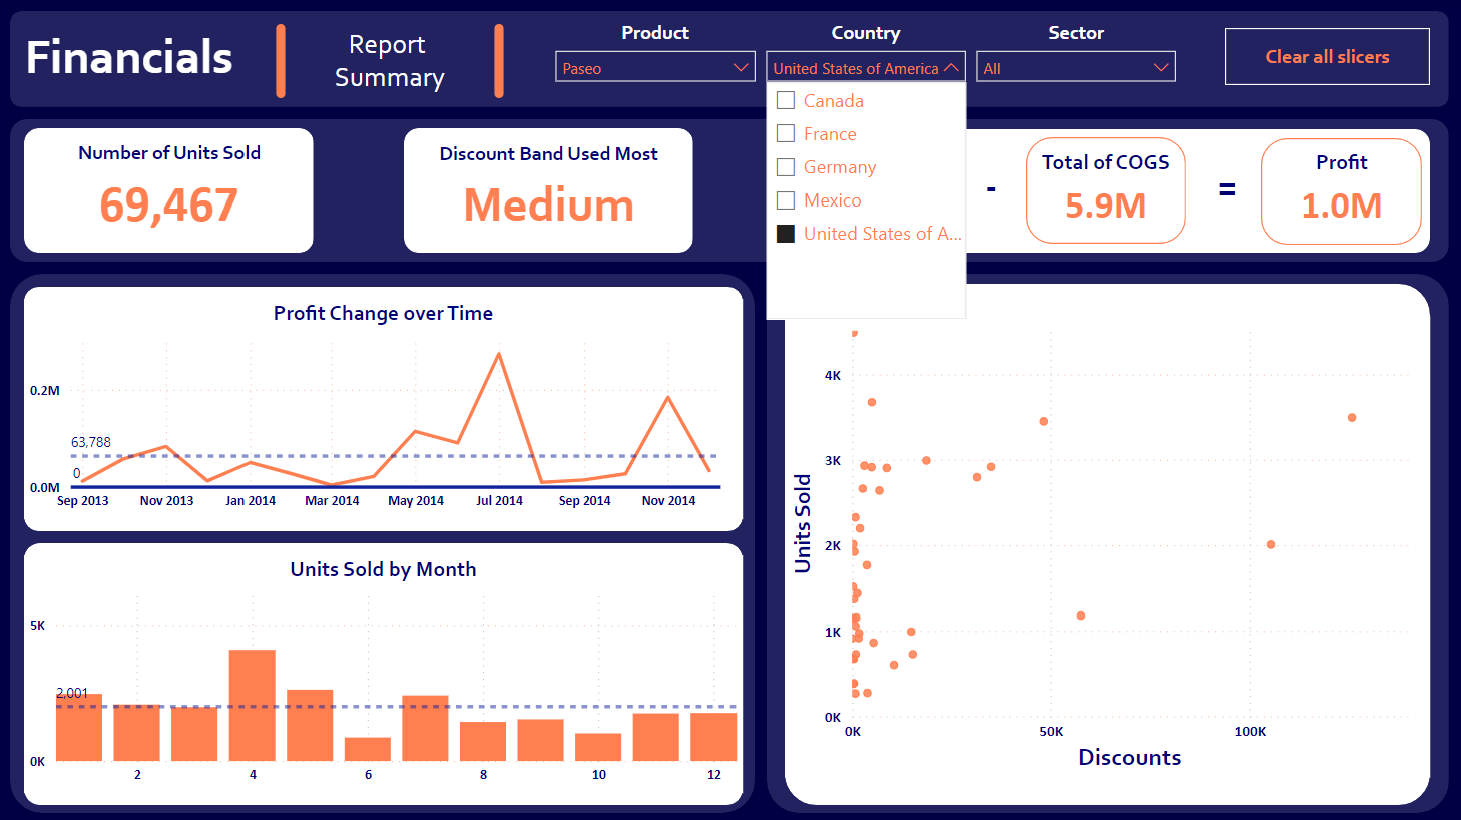

The page's visual inventory and layout, read from the dashboard file:
{"tool":"powerbi","page":{"name":"Report Summary","canvas":[1280,720],"ordinal":0},"visuals":[{"type":"shape","box":[10.5,240.3,651.6,471.8],"z":1000},{"type":"shape","box":[672.6,240.3,597.2,471.8],"z":2000},{"type":"shape","box":[10.5,105.2,1259.3,124.5],"z":3000},{"type":"shape","box":[10.5,10.5,1259.3,84.2],"z":4000},{"type":"shape","box":[688.4,114,564.8,107.9],"z":5000},{"type":"shape","box":[355.2,113.1,253.4,108.7],"z":6000},{"type":"shape","box":[22.8,113.1,253.4,108.7],"z":7000},{"type":"shape","box":[688.4,249.1,564.8,456],"z":8000},{"type":"shape","box":[22.8,476.2,628.8,228.9],"z":9000},{"type":"shape","box":[22.8,251.7,628.8,214],"z":10000},{"type":"slicer","title":"Product","fields":{"Values":["financials.Product"]},"box":[478,18.4,194.7,70.2],"z":11000},{"type":"card","title":"Number of Units Sold","fields":{"Values":["Sum(financials.Units Sold)"]},"box":[35.1,123.7,229.8,86.8],"z":12000},{"type":"lineChart","title":"Profit Change over Time","fields":{"Y":["Sum(financials.Profit)"],"Category":["financials.Date.Variation.Date Hierarchy.Year","financials.Date.Variation.Date Hierarchy.Quarter","financials.Date.Variation.Date Hierarchy.Month","financials.Date.Variation.Date Hierarchy.Day"]},"box":[22.8,262.2,628.8,192.9],"z":13000},{"type":"clusteredColumnChart","title":"Units Sold by Month","fields":{"Category":["financials.Month Number"],"Y":["Avg(financials.Units Sold)"]},"box":[22.8,486.7,628.8,207.8],"z":14000},{"type":"card","title":"Total of Sales","fields":{"Values":["Sum(financials. Sales)"]},"box":[700.7,130.7,130.7,78.1],"z":15000},{"type":"card","title":"Total of COGS","fields":{"Values":["Sum(financials.COGS)"]},"box":[905,130.7,129.8,78.1],"z":16000},{"type":"card","title":"Profit","fields":{"Values":["Sum(financials.Profit)"]},"box":[1111.1,130.7,129.8,78.1],"z":17000},{"type":"card","title":"Discount Band Used Most","fields":{"Values":["financials.Top Discount Band for Card"]},"box":[366.6,124.5,230.6,87.7],"z":18000},{"type":"scatterChart","fields":{"X":["financials.Discounts"],"Y":["financials.Units Sold"]},"box":[688.4,277.1,564.8,404.3],"z":19000},{"type":"textbox","box":[18.4,19.3,210.5,63.1],"z":20000},{"type":"slicer","title":"Country","fields":{"Values":["financials.Country"]},"box":[662.1,18.4,194.7,70.2],"z":21000},{"type":"slicer","title":"Sector","fields":{"Values":["financials.Sector"]},"box":[846.3,18.4,194.7,70.2],"z":22000},{"type":"shape","box":[695.4,121,141.2,93.8],"z":23000},{"type":"textbox","box":[849.8,139.4,38.6,57],"z":24000},{"type":"textbox","box":[1054.1,139.4,42.1,57],"z":25000},{"type":"shape","box":[899.8,121,140.3,93],"z":26000},{"type":"shape","box":[1105,121.9,141.2,93],"z":27000},{"type":"actionButton","box":[1073.4,25.4,179.8,50],"z":28000},{"type":"shape","box":[210.5,21.9,73.7,64.9],"z":29000},{"type":"shape","box":[401.7,21.9,73.7,64.9],"z":30000},{"type":"textbox","box":[247.3,19.3,191.2,70.2],"z":31000}]}

Visuals, with their boxes in screenshot pixels (x1, y1, x2, y2), scaled from the page's 1280x720 canvas onto the 1461x820 screenshot:
shape: detection(12, 274, 756, 811)
shape: detection(768, 274, 1449, 811)
shape: detection(12, 120, 1449, 262)
shape: detection(12, 12, 1449, 108)
shape: detection(786, 130, 1430, 253)
shape: detection(405, 129, 695, 253)
shape: detection(26, 129, 315, 253)
shape: detection(786, 284, 1430, 803)
shape: detection(26, 542, 744, 803)
shape: detection(26, 287, 744, 530)
"Product" slicer: detection(546, 21, 768, 101)
"Number of Units Sold" card: detection(40, 141, 302, 240)
"Profit Change over Time" lineChart: detection(26, 299, 744, 518)
"Units Sold by Month" clusteredColumnChart: detection(26, 554, 744, 791)
"Total of Sales" card: detection(800, 149, 949, 238)
"Total of COGS" card: detection(1033, 149, 1181, 238)
"Profit" card: detection(1268, 149, 1416, 238)
"Discount Band Used Most" card: detection(418, 142, 682, 242)
scatterChart - financials.Discounts x financials.Units Sold: detection(786, 316, 1430, 776)
textbox: detection(21, 22, 261, 94)
"Country" slicer: detection(756, 21, 978, 101)
"Sector" slicer: detection(966, 21, 1188, 101)
shape: detection(794, 138, 955, 245)
textbox: detection(970, 159, 1014, 224)
textbox: detection(1203, 159, 1251, 224)
shape: detection(1027, 138, 1187, 244)
shape: detection(1261, 139, 1422, 245)
actionButton: detection(1225, 29, 1430, 86)
shape: detection(240, 25, 324, 99)
shape: detection(459, 25, 543, 99)
textbox: detection(282, 22, 501, 102)
